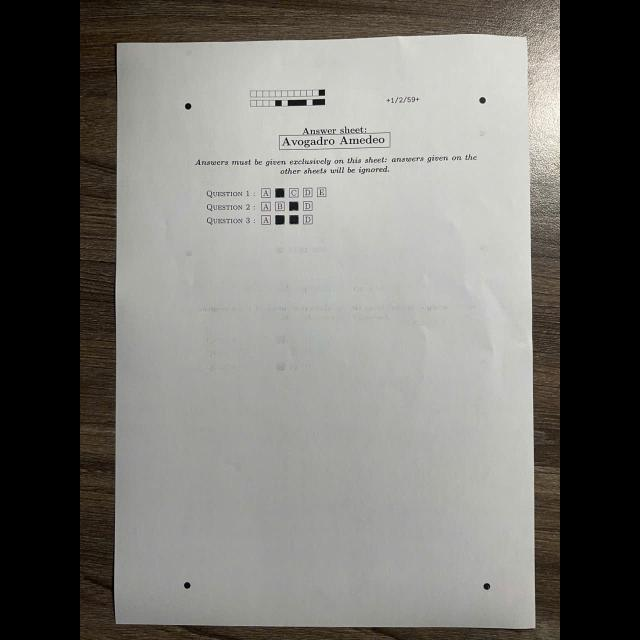Markers: (184, 104, 192, 110), (484, 584, 491, 590), (480, 97, 486, 103), (184, 583, 190, 589)
